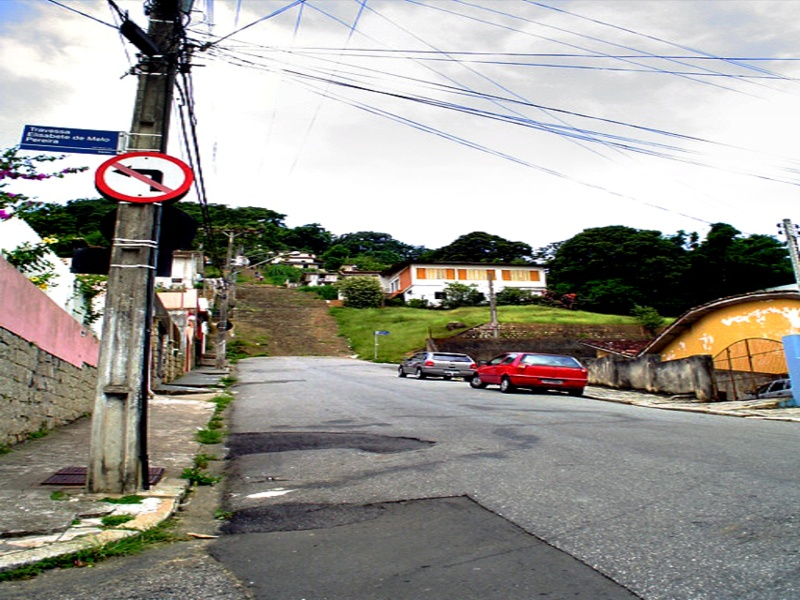no_left_turn: (87, 146, 202, 212)
